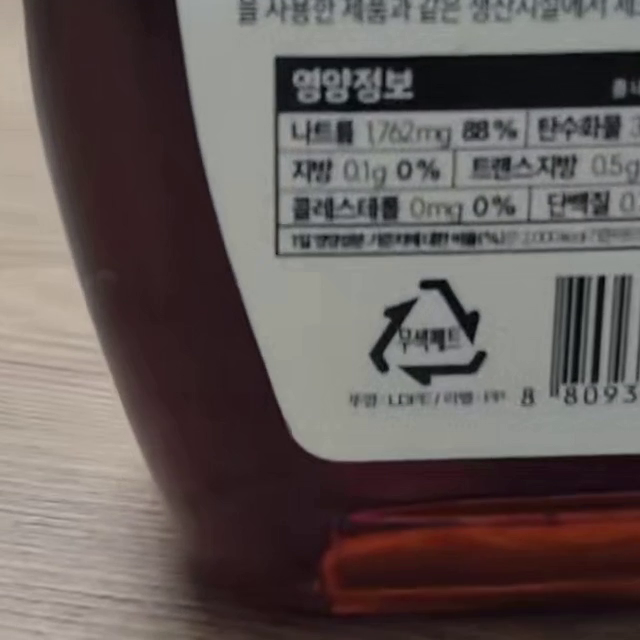ColorlessPet: (368, 274, 488, 385)
